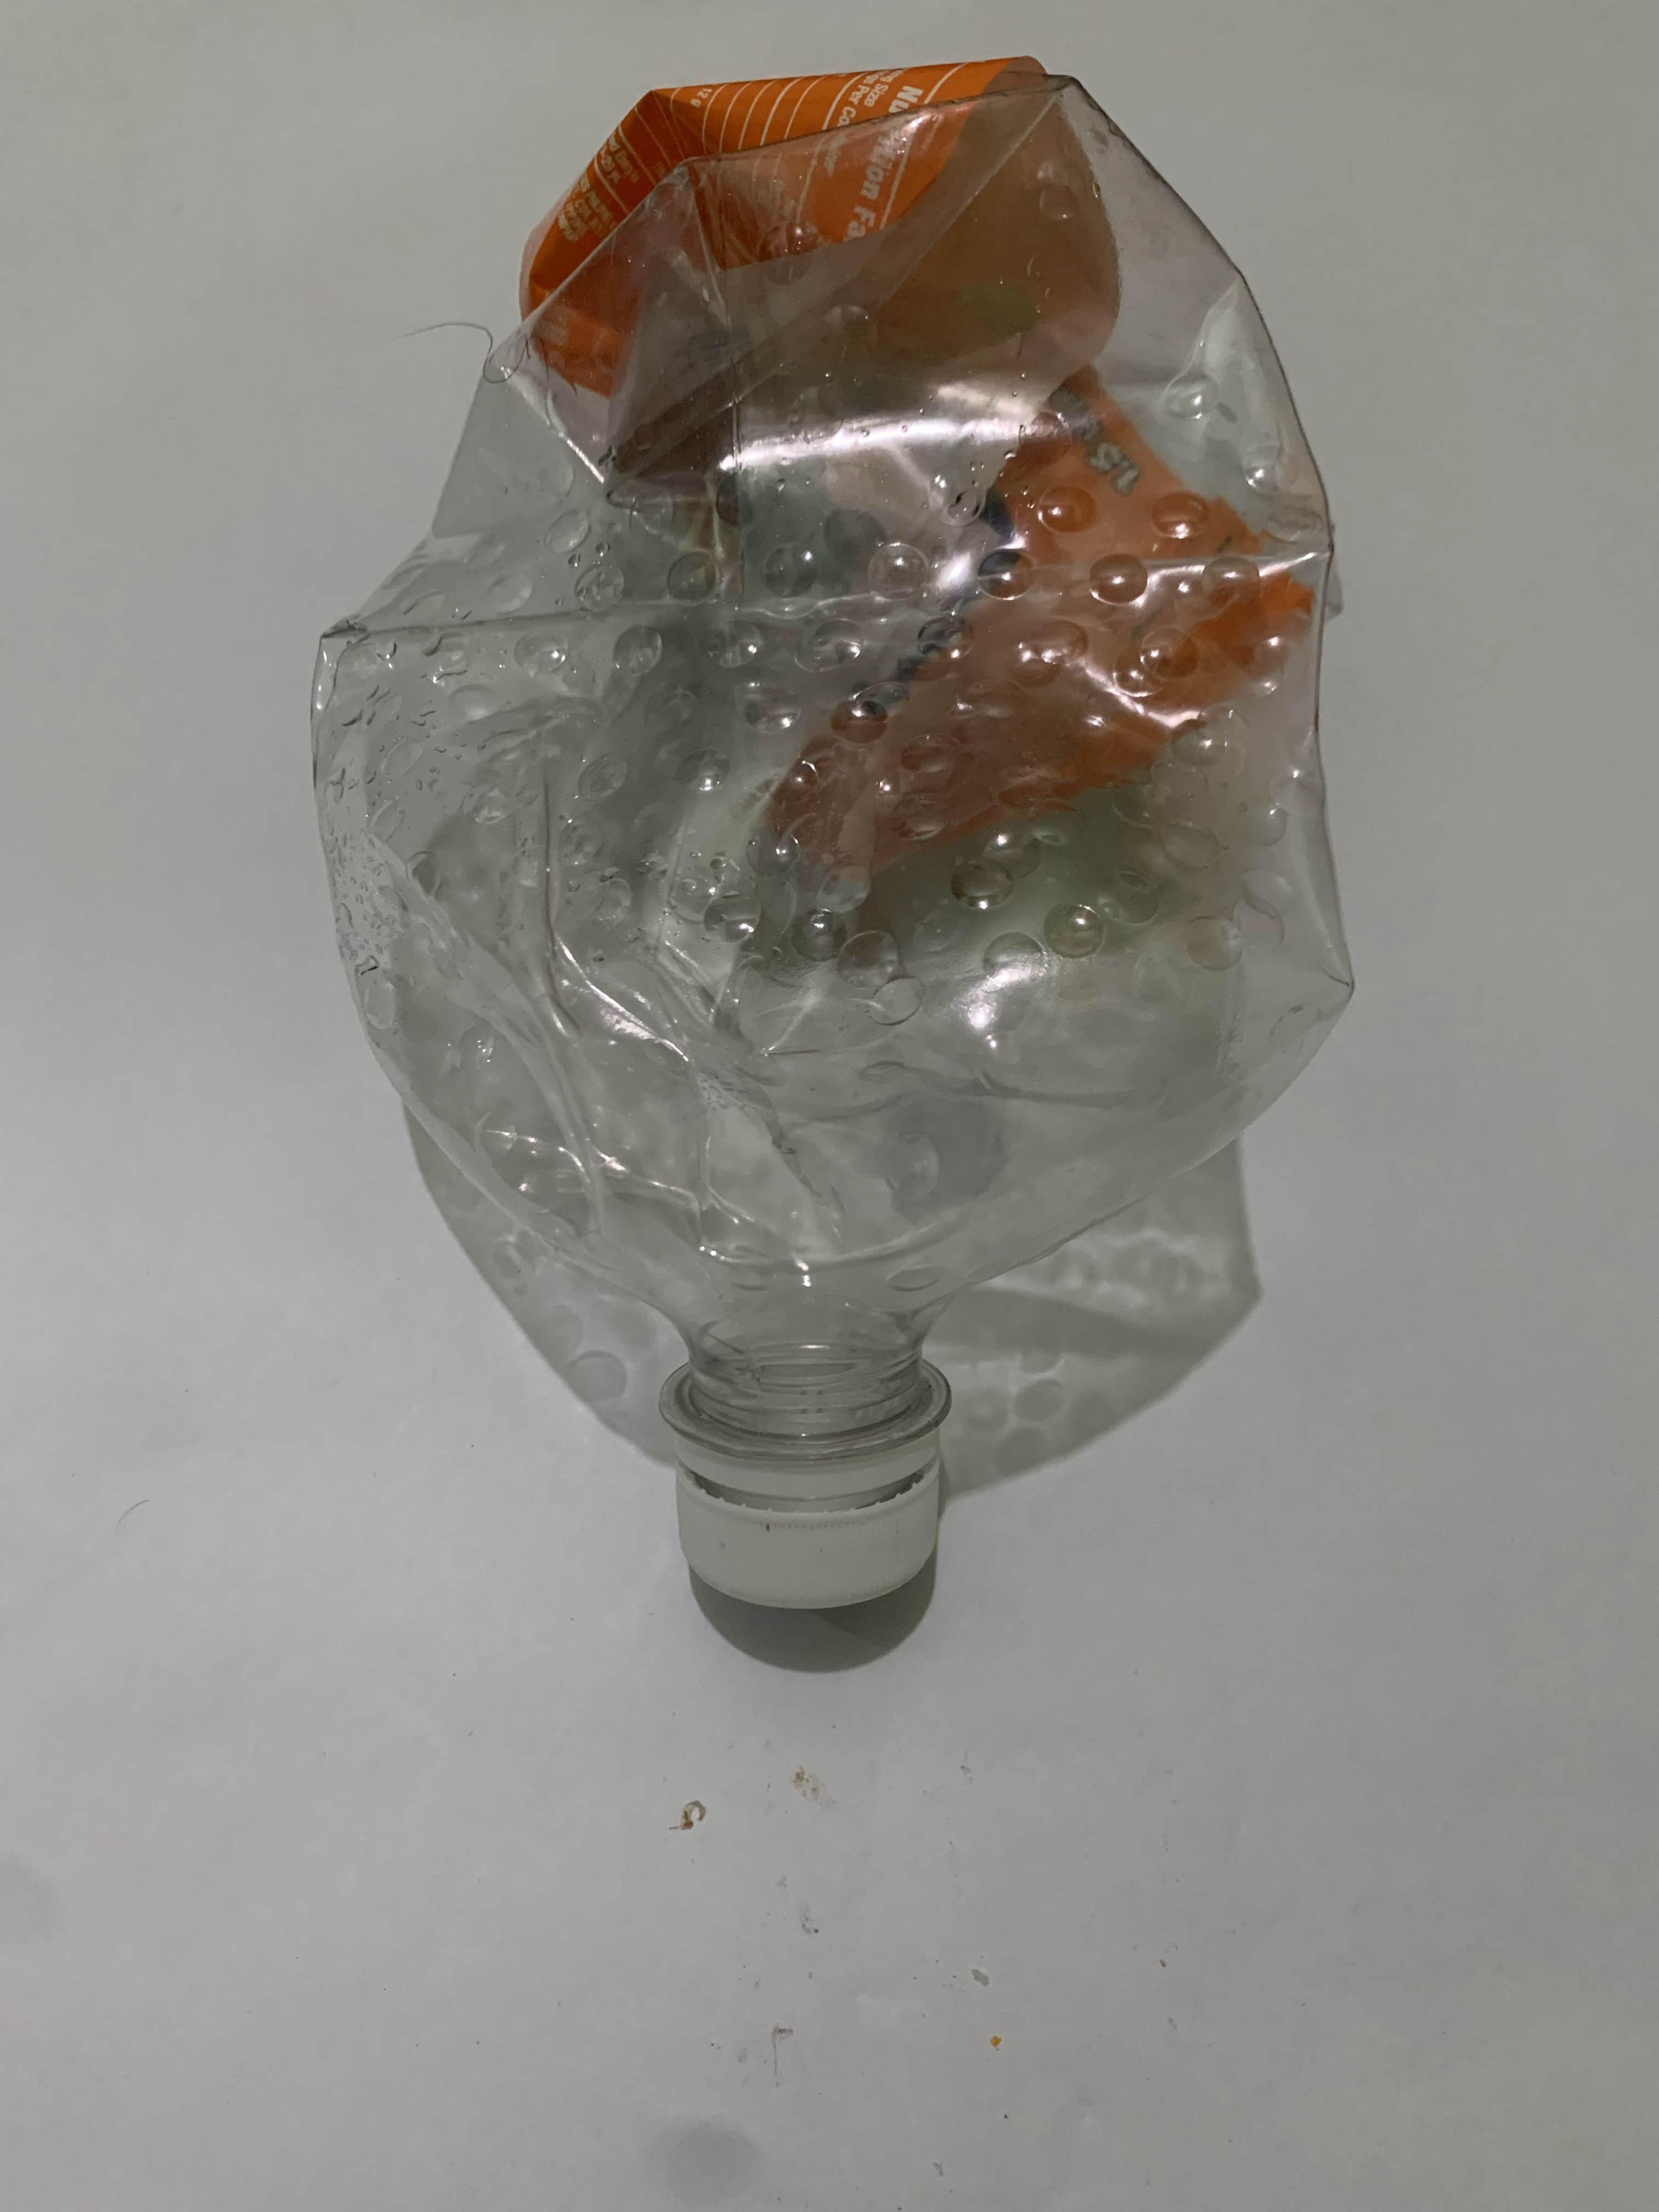bottle: (0, 44, 537, 1623)
